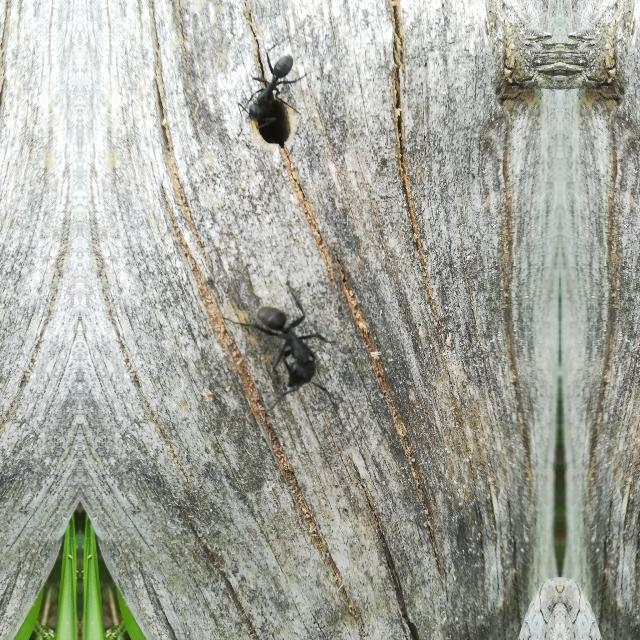Camponotus: (240, 286, 318, 396), (240, 44, 312, 154)
